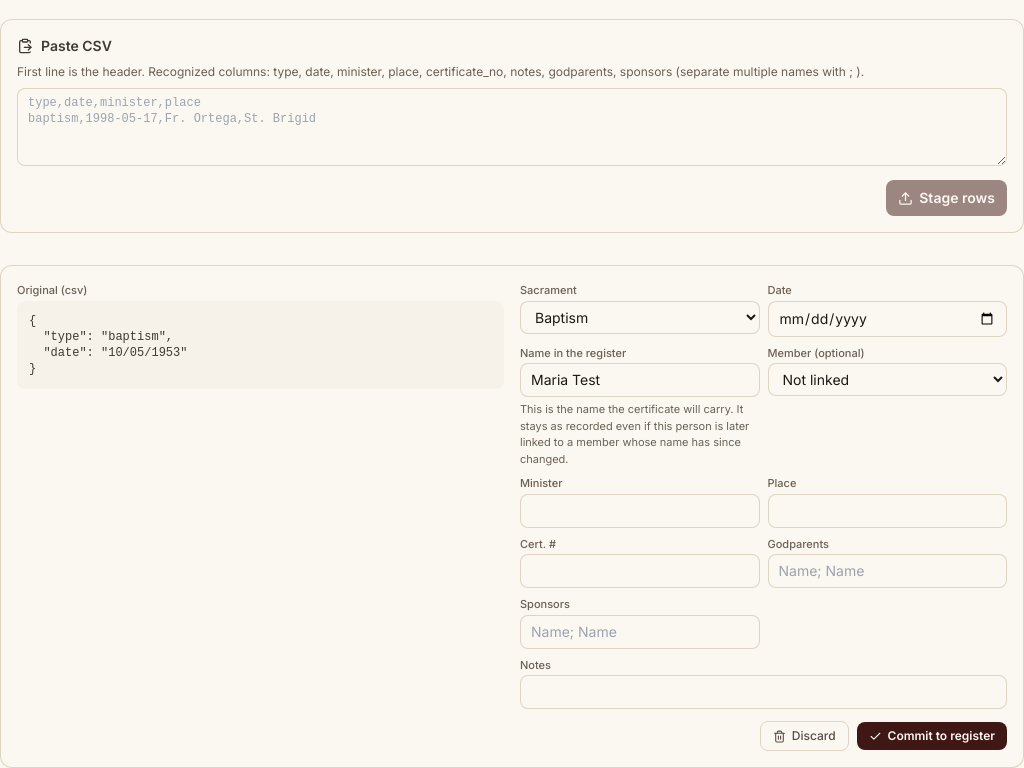
RegisterDrafts — commit outcomes › (b) a 409 "already committed" is treated as committed: the row goes, and no "didn't save"
(page scrolled)
Click the button "Commit to register" at (932, 736), box [857,722,1007,750]
(page scrolled)
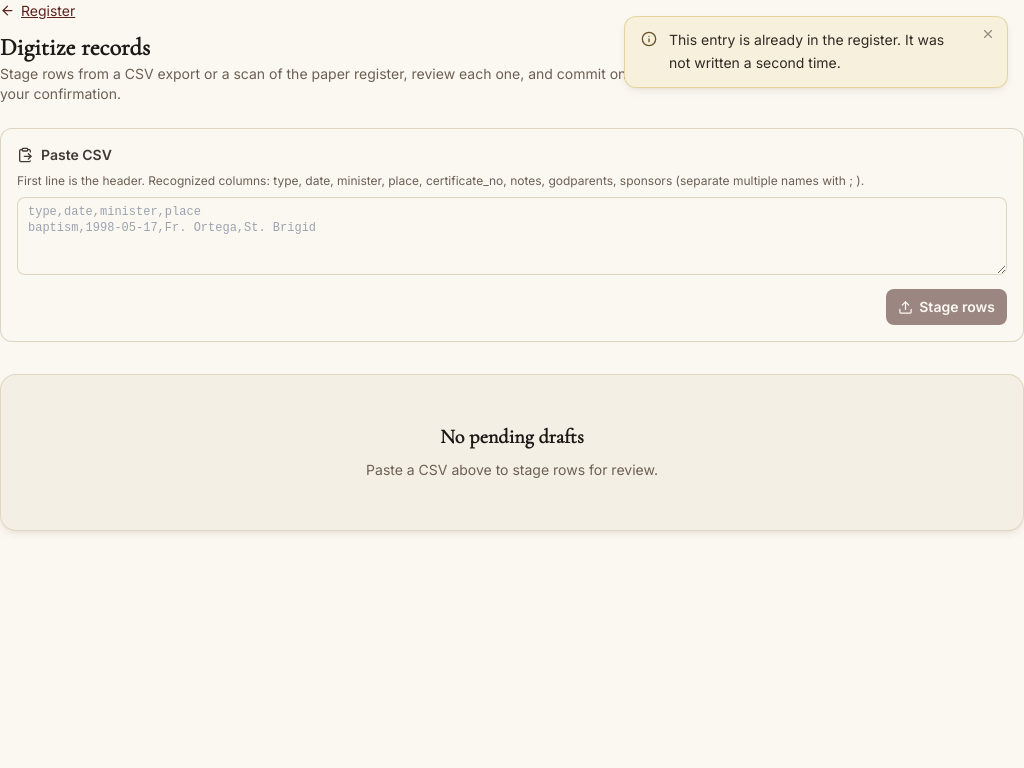
Expected: the field showing "Maria Test" is not shown
Result: the text "already in the register" is shown at [669,31,944,71]
